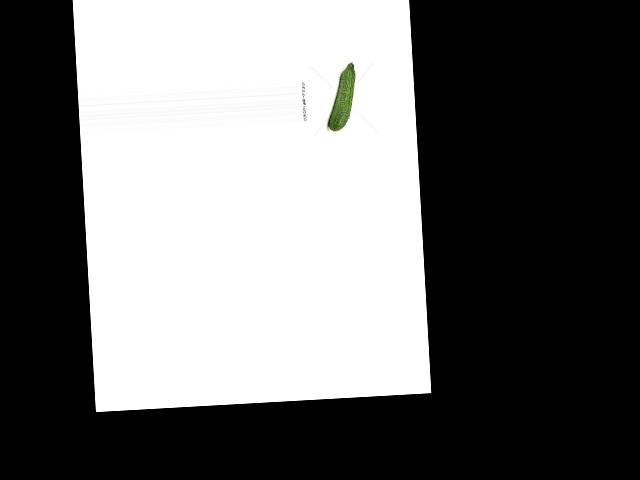cucumber: (324, 61, 357, 130)
